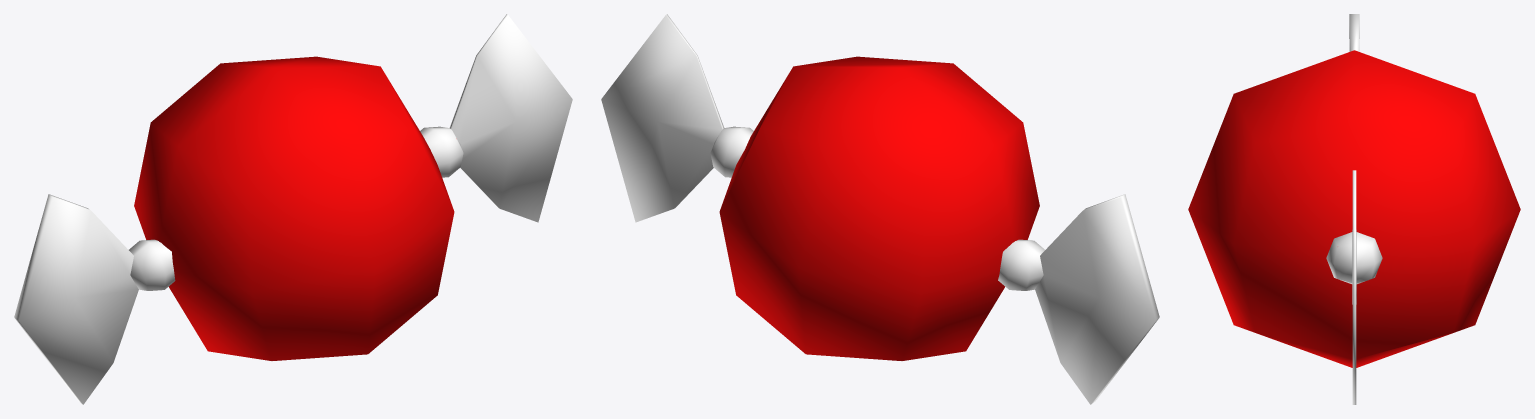
The model's file is Candy.fbx.
The picture shows the model from 3 angles, left to right: view 1: azimuth 30°, elevation 25°; view 2: azimuth 150°, elevation 25°; view 3: azimuth 270°, elevation 25°; orthographic projection. The views are drawn at different scales.
Visible parts, largest first — view 1: Wrappers, tassel; view 2: Wrappers, tassel; view 3: Wrappers, tassel.
Part boxes in pixels (box(x1,y1,x2,y2)): Wrappers: box(134, 56, 454, 360); tassel: box(14, 14, 572, 404); Wrappers: box(719, 56, 1039, 360); tassel: box(601, 14, 1159, 404); Wrappers: box(1188, 50, 1520, 367); tassel: box(1326, 14, 1382, 404).
Bounding box in the file's own units: 247 × 124 × 125.
1 material, 1 textured.
